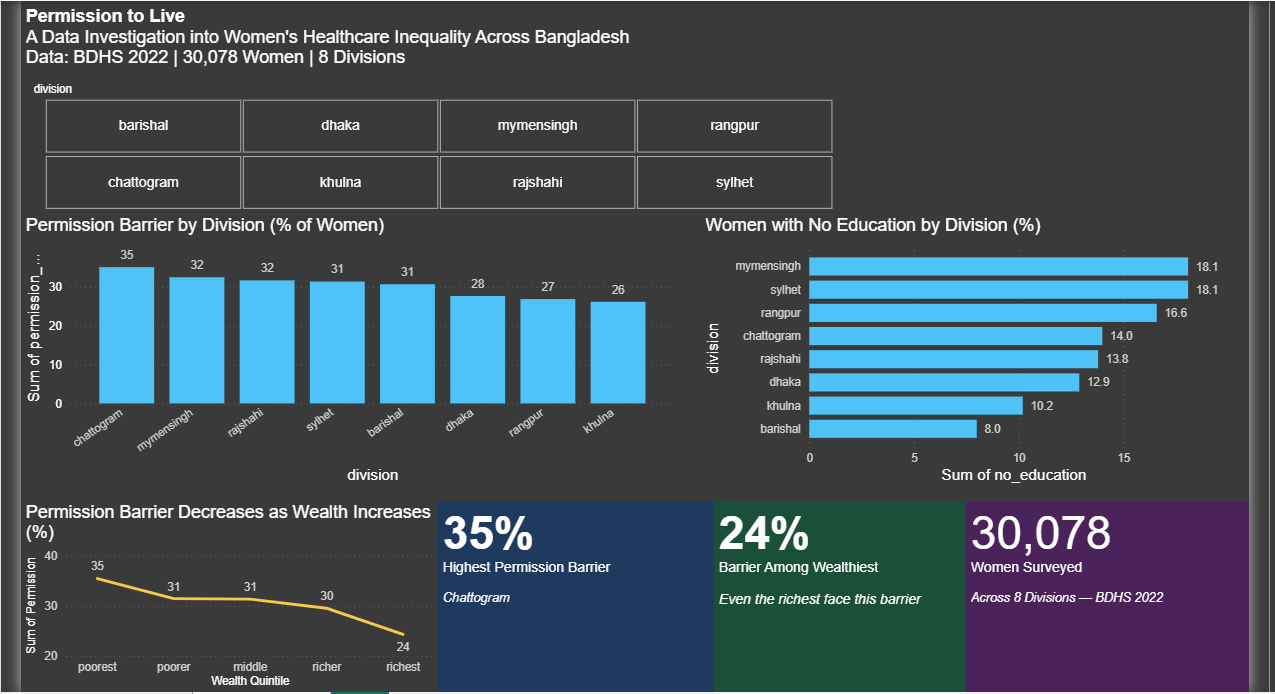

What the dashboard file says about the page in this screenshot:
{"tool":"powerbi","page":{"name":"Overview","canvas":[1280,720],"ordinal":0},"visuals":[{"type":"columnChart","title":"Permission Barrier by Division (% of Women)","fields":{"Category":["division_summary.division"],"Y":["Sum(division_summary.permission_barrier)"]},"box":[0,111.5,595.3,355.3],"z":0},{"type":"clusteredBarChart","title":"Women with No Education by Division (%)","fields":{"Category":["division_summary.division"],"Y":["Sum(division_summary.no_education)"]},"box":[572.6,111.5,640.6,317.5],"z":1000},{"type":"textbox","box":[164.4,0,1024.3,111.5],"z":2000},{"type":"lineChart","title":"Permission Barrier Decreases as Wealth Increases (%)","fields":{"Category":["wealth_barriers.v190"],"Y":["Sum(wealth_barriers.Permission)"]},"box":[0,429,595.3,291],"z":3000},{"type":"textbox","box":[595,429,619,291],"z":4000}]}

Visuals, with their boxes on the page's 1280x720 design canvas (x1, y1, x2, y2). These are canvas units, not pixel positions in the 1275x694 screenshot, which may show the page scaled, cropped or inside an application window:
"Permission Barrier by Division (% of Women)" columnChart: [left=0, top=112, right=595, bottom=467]
"Women with No Education by Division (%)" clusteredBarChart: [left=573, top=112, right=1213, bottom=429]
textbox: [left=164, top=0, right=1189, bottom=112]
"Permission Barrier Decreases as Wealth Increases (%)" lineChart: [left=0, top=429, right=595, bottom=720]
textbox: [left=595, top=429, right=1214, bottom=720]
